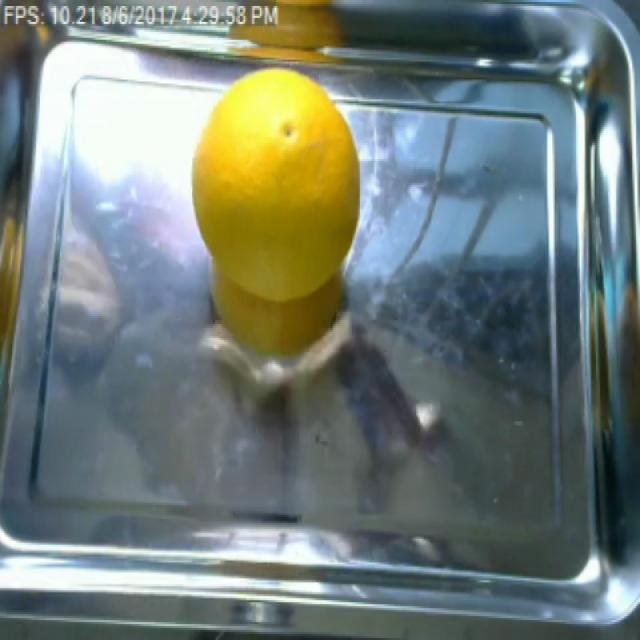Fruit: (184, 52, 367, 364), (211, 0, 365, 56)
